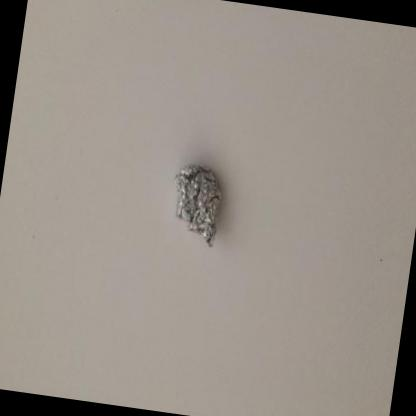Metal: (175, 165, 222, 246)
